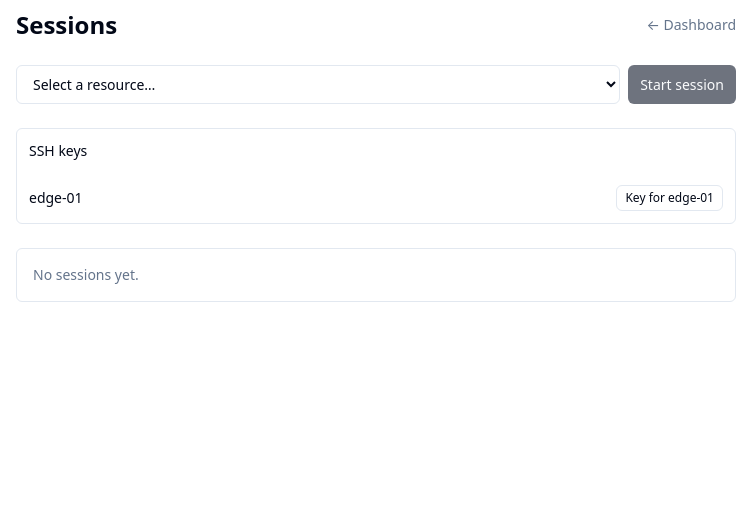
Test: Sessions route › lists ssh resources under SSH keys and opens one resource's credential panel on demand (T-176d)
Click the button "Key for edge-01".
click(670, 198)  # box [616, 185, 723, 211]
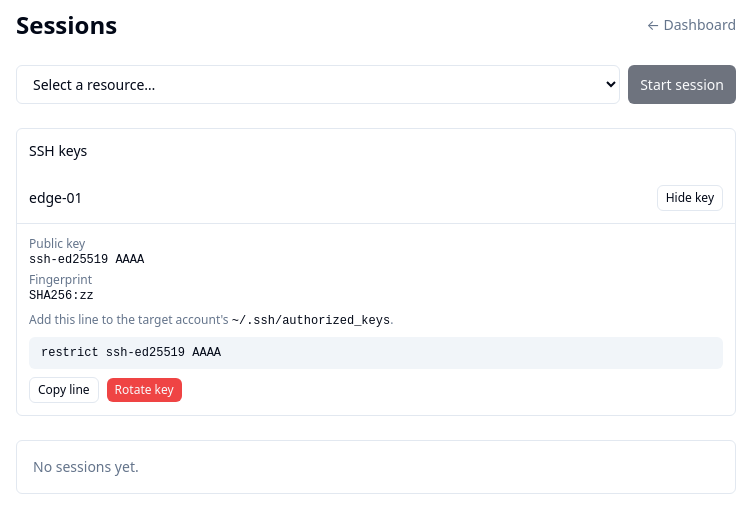
Now the text "SHA256:zz" is shown, box [29, 289, 94, 303]
